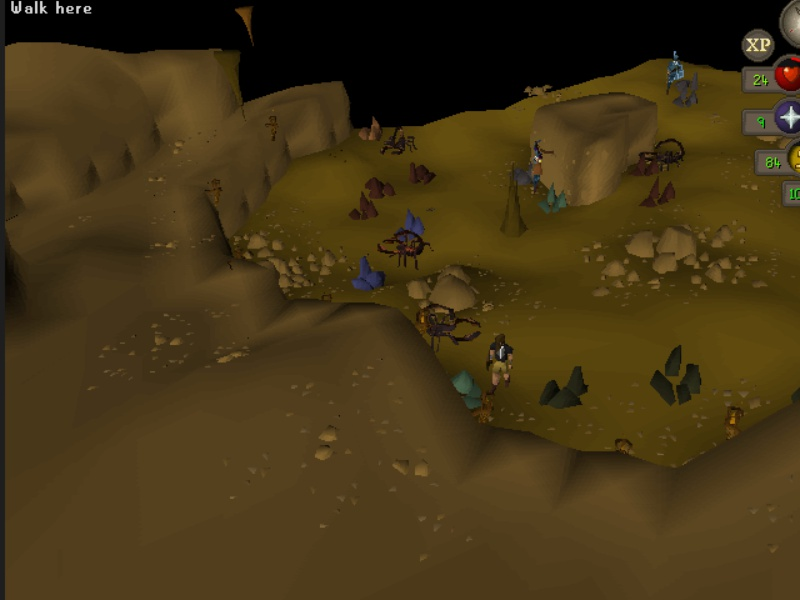adamant: (448, 368, 486, 412), (535, 182, 573, 215)
coal: (648, 342, 704, 408), (538, 364, 593, 414)
copper: (355, 115, 386, 144)
iron: (638, 175, 679, 209), (347, 189, 381, 225), (405, 159, 442, 187), (628, 151, 662, 179), (363, 175, 399, 201)
mithril: (348, 256, 390, 293), (388, 206, 430, 243)
